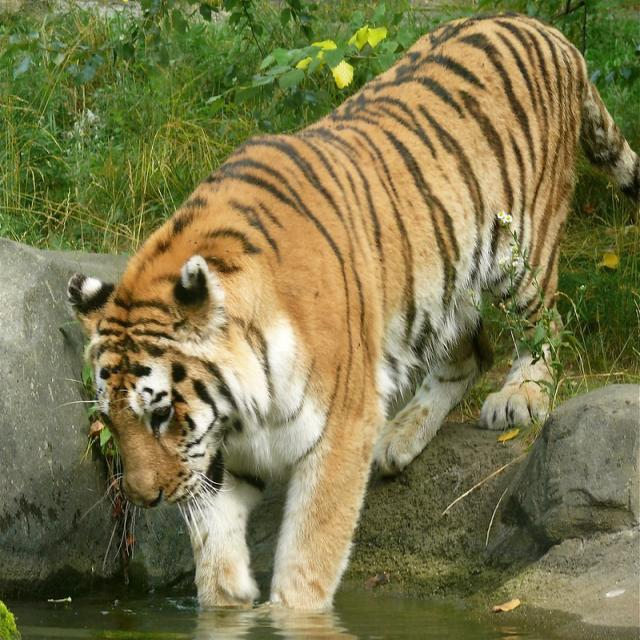Tiger: (60, 8, 610, 639)
